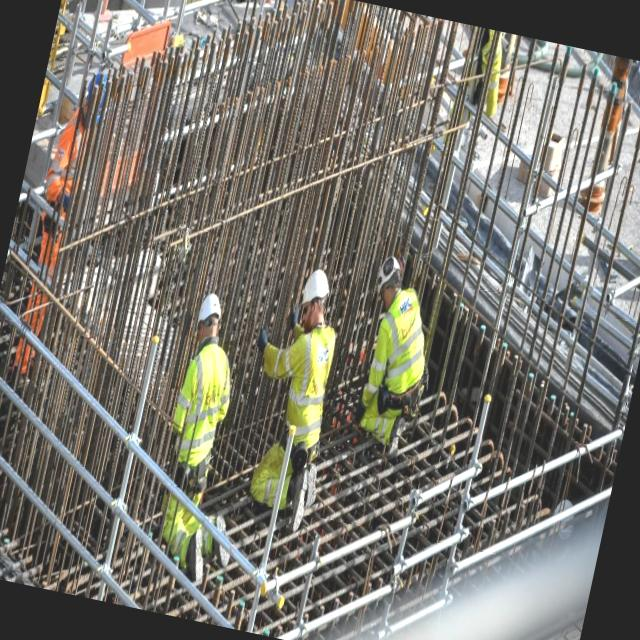helmet: (296, 260, 338, 314), (190, 278, 230, 330), (369, 246, 402, 294)
vest: (158, 336, 242, 485), (264, 318, 339, 452), (366, 292, 433, 400)
